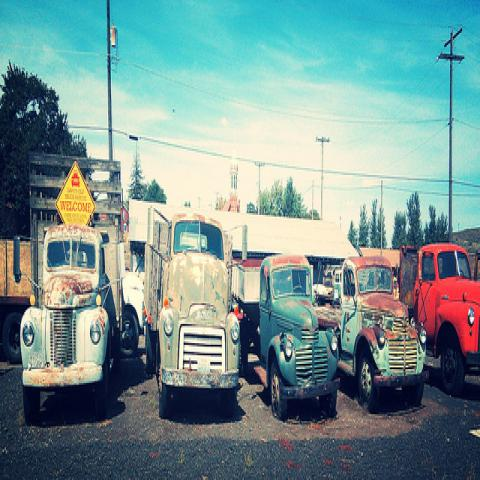truck: (141, 200, 248, 422), (231, 251, 340, 424), (20, 225, 112, 424), (316, 256, 430, 415), (396, 239, 479, 395)
